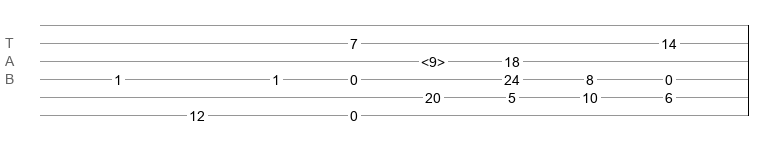0: (350, 72, 358, 82), (350, 108, 358, 118), (665, 72, 673, 82)
1: (114, 72, 122, 82), (272, 72, 280, 82)
10: (582, 90, 598, 100)
12: (189, 108, 205, 118)
14: (661, 36, 677, 46)
18: (504, 54, 520, 64)
20: (425, 90, 441, 100)
24: (504, 72, 520, 82)
5: (508, 90, 516, 100)
6: (665, 90, 673, 100)
7: (350, 36, 358, 46)
8: (586, 72, 594, 82)
harmonic: (421, 54, 445, 64)
